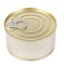paper: (3, 7, 57, 60)
